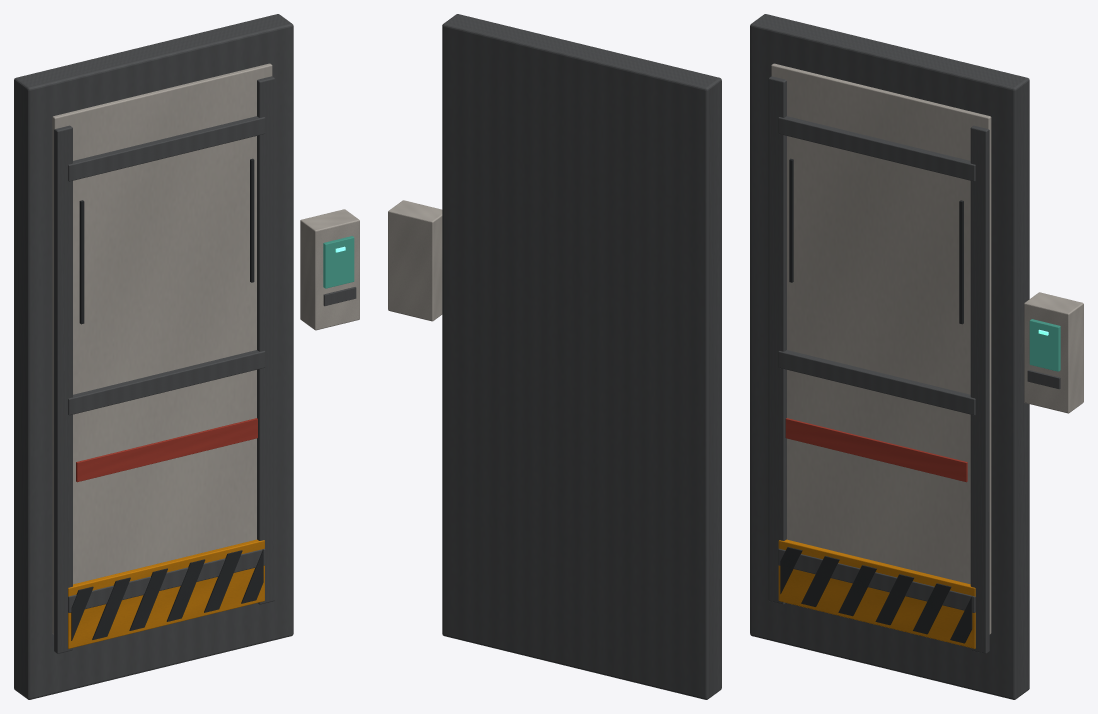
The model's file is secure_door.glb.
3 renders of one model, left to right at view 1: azimuth 30°, elevation 25°; view 2: azimuth 150°, elevation 25°; view 3: azimuth 330°, elevation 25°, orthographic.
Visible parts, largest first — view 1: center_panel, door_leaf.004, edge_brace, edge_brace.001, warning_panel, access_housing, cross_brace.001, cross_brace.002, secure_red_stripe, cross_brace, access_display, hazard_stripe_03 (+7 smaller); view 2: door_leaf.004, access_housing; view 3: center_panel, door_leaf.004, edge_brace.001, edge_brace, warning_panel, access_housing, cross_brace.002, cross_brace.001, secure_red_stripe, cross_brace, access_display, hazard_stripe_01 (+7 smaller).
Boxes of the visible parts, bbox=[...] form: center_panel: bbox=[52, 63, 272, 634]; door_leaf.004: bbox=[14, 14, 293, 699]; edge_brace: bbox=[54, 125, 72, 653]; edge_brace.001: bbox=[257, 76, 274, 604]; warning_panel: bbox=[68, 539, 264, 648]; access_housing: bbox=[300, 209, 359, 330]; cross_brace.001: bbox=[68, 350, 265, 415]; cross_brace.002: bbox=[68, 116, 265, 181]; secure_red_stripe: bbox=[76, 418, 257, 482]; cross_brace: bbox=[68, 548, 265, 612]; access_display: bbox=[323, 236, 354, 288]; hazard_stripe_03: bbox=[166, 559, 205, 621]; door_leaf.004: bbox=[442, 14, 721, 699]; access_housing: bbox=[388, 200, 442, 321]; center_panel: bbox=[771, 63, 991, 634]; door_leaf.004: bbox=[750, 14, 1029, 699]; edge_brace.001: bbox=[970, 125, 989, 653]; edge_brace: bbox=[768, 76, 786, 604]; warning_panel: bbox=[778, 539, 975, 648]; access_housing: bbox=[1024, 292, 1083, 413]; cross_brace.002: bbox=[778, 116, 975, 181]; cross_brace.001: bbox=[778, 350, 975, 415]; secure_red_stripe: bbox=[785, 418, 967, 482]; cross_brace: bbox=[778, 548, 975, 612]; access_display: bbox=[1029, 319, 1060, 371]; hazard_stripe_01: bbox=[801, 556, 839, 606].
Bounding box in the file's own units: 1.22 × 2.2 × 0.161.
Materials: 7 (5 with a texture image).
